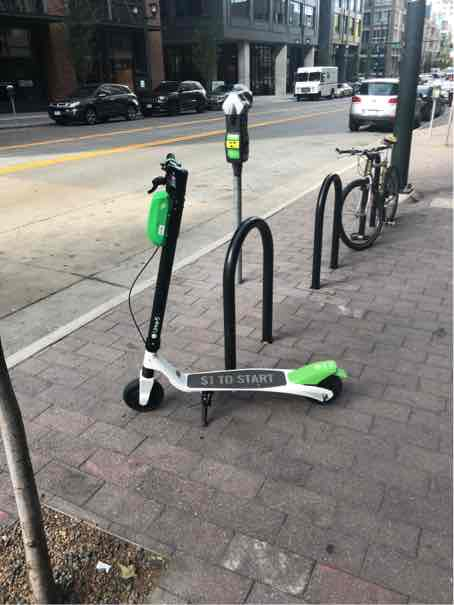scooter: (120, 117, 350, 435)
